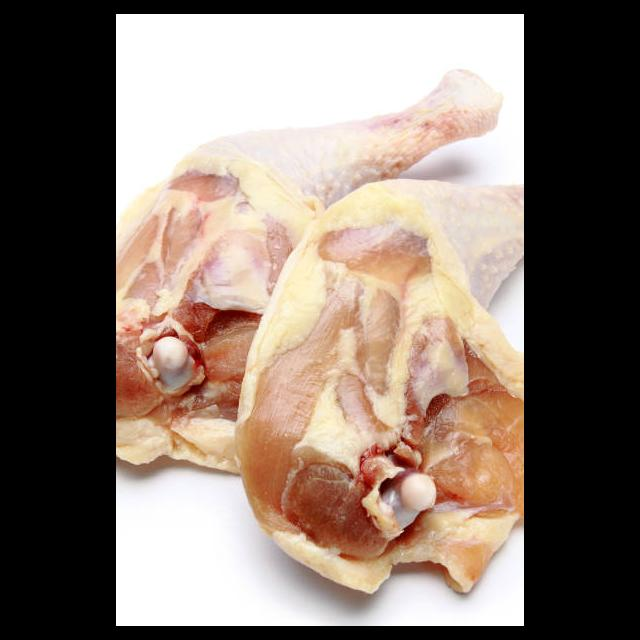chicken: (117, 69, 524, 599)
